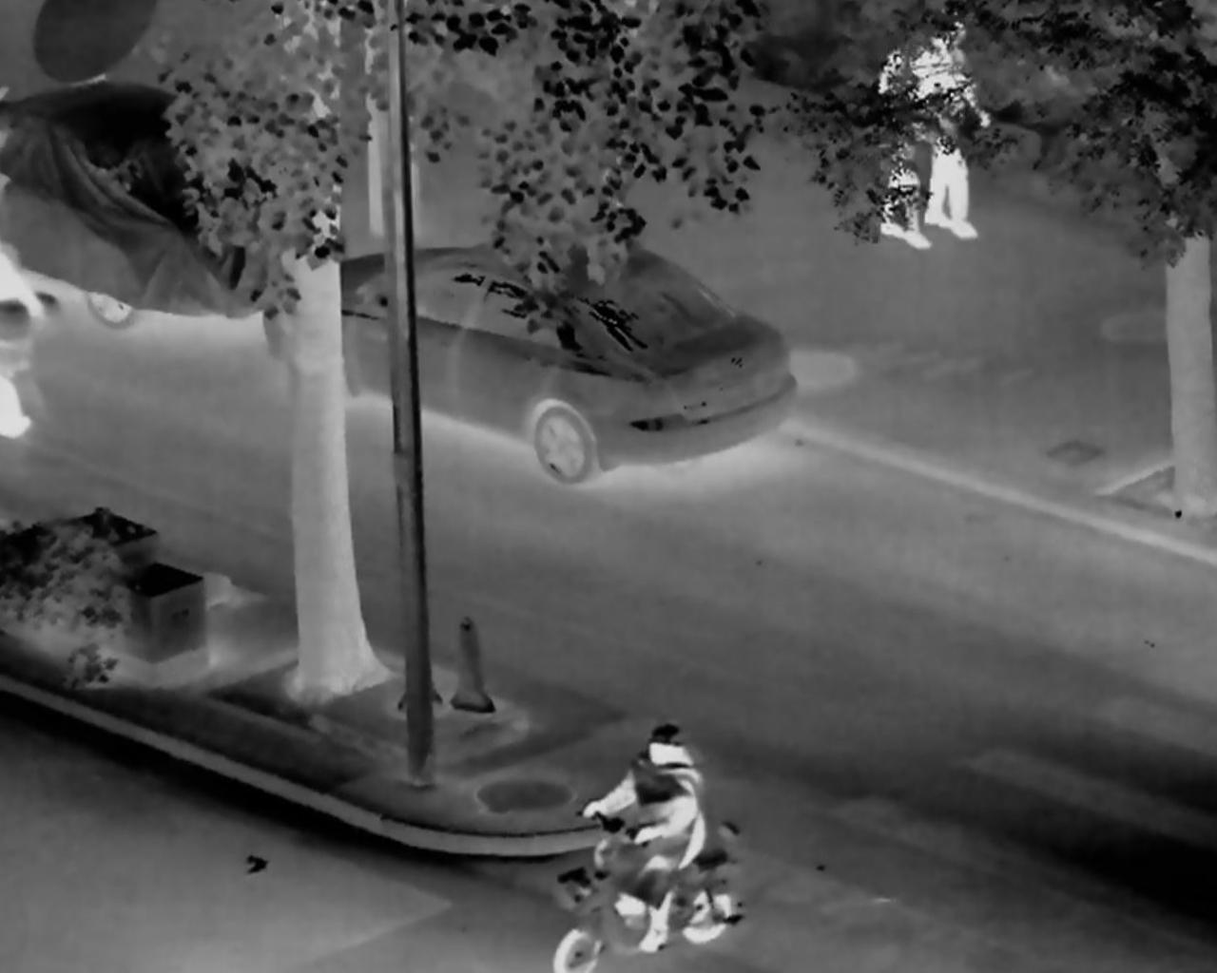person: (585, 725, 706, 957), (860, 36, 937, 254), (917, 10, 989, 241)
